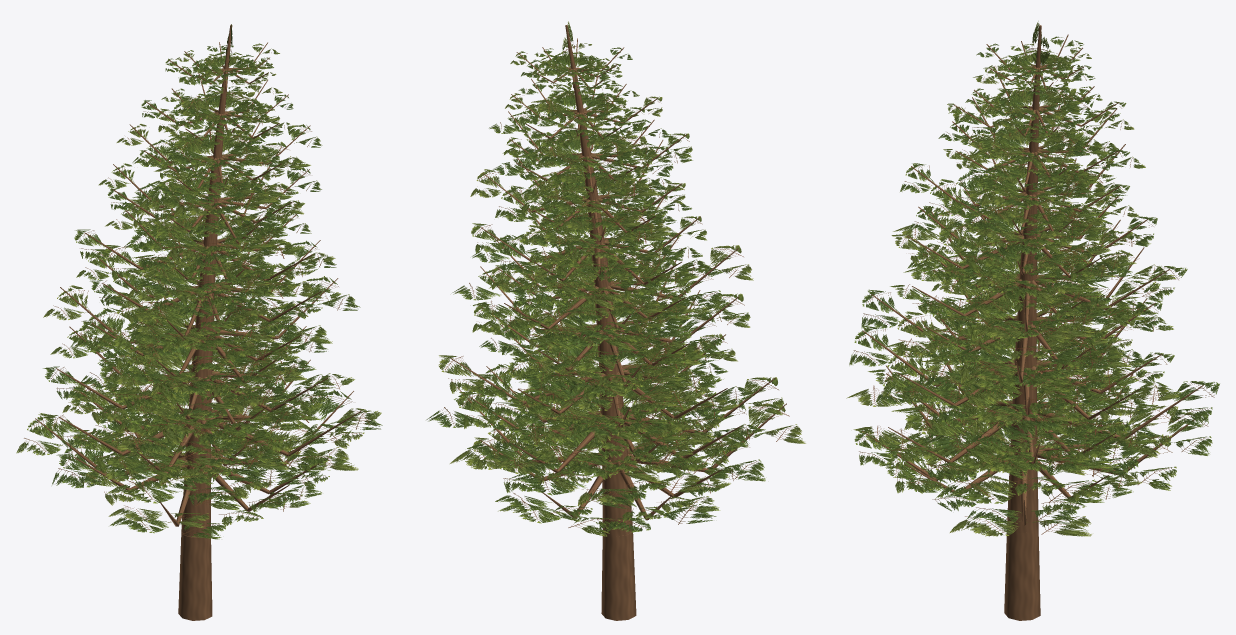
Rendered from shore-pine-near.glb.
3 views of the same model, side by side, from view 1: azimuth 30°, elevation 25°; view 2: azimuth 150°, elevation 25°; view 3: azimuth 270°, elevation 25° (orthographic). The views are drawn at different scales.
Visible parts, largest first — view 1: Crown_Foliage, Trunk_Wood; view 2: Crown_Foliage, Trunk_Wood; view 3: Crown_Foliage, Trunk_Wood.
Boxes of the visible parts, box(x1,y1,x2,y2) form: Crown_Foliage: box(16, 24, 382, 539); Trunk_Wood: box(35, 25, 361, 620); Crown_Foliage: box(426, 21, 805, 536); Trunk_Wood: box(450, 25, 786, 620); Crown_Foliage: box(846, 21, 1219, 536); Trunk_Wood: box(862, 25, 1203, 620).
Size of the model in its own units: 7.42 by 13.25 by 7.36.
Materials: 2 (2 with a texture image).
